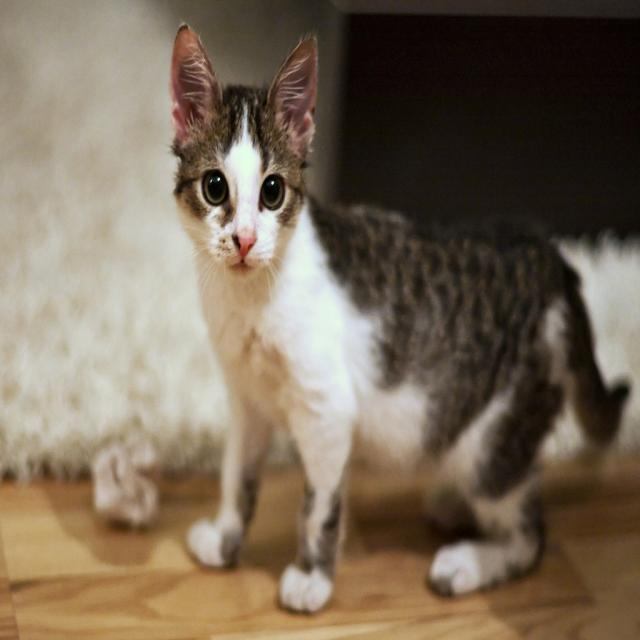Cat: (165, 21, 630, 613)
